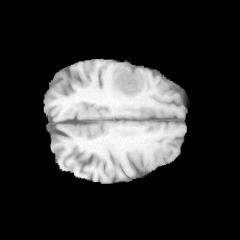glioma: (112, 65, 146, 98)
